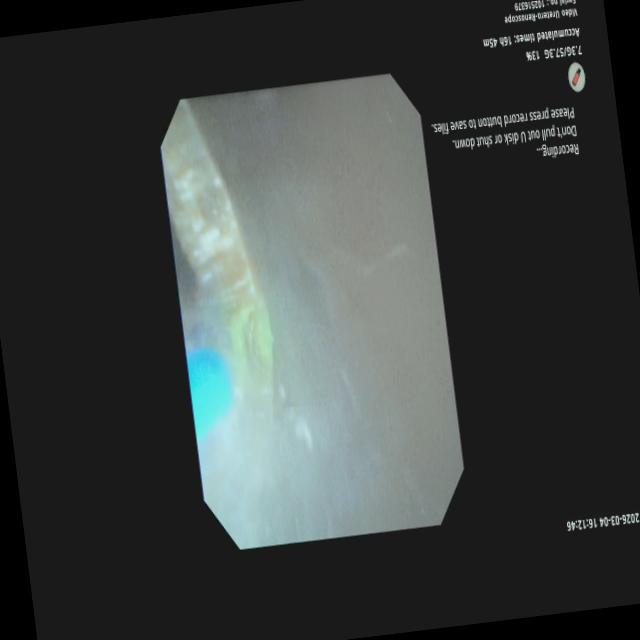laser_dot: (254, 304, 272, 368)
stone-new: (161, 100, 274, 459)
